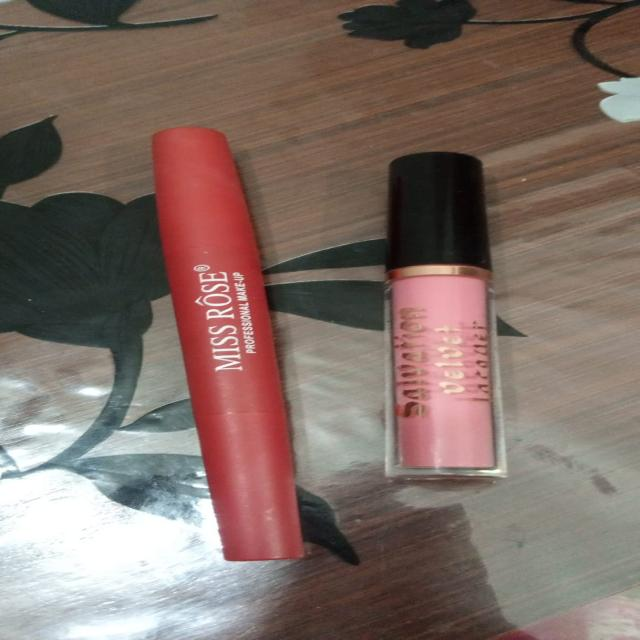eye liner: (89, 119, 351, 589)
lip gloss: (343, 115, 640, 502)
